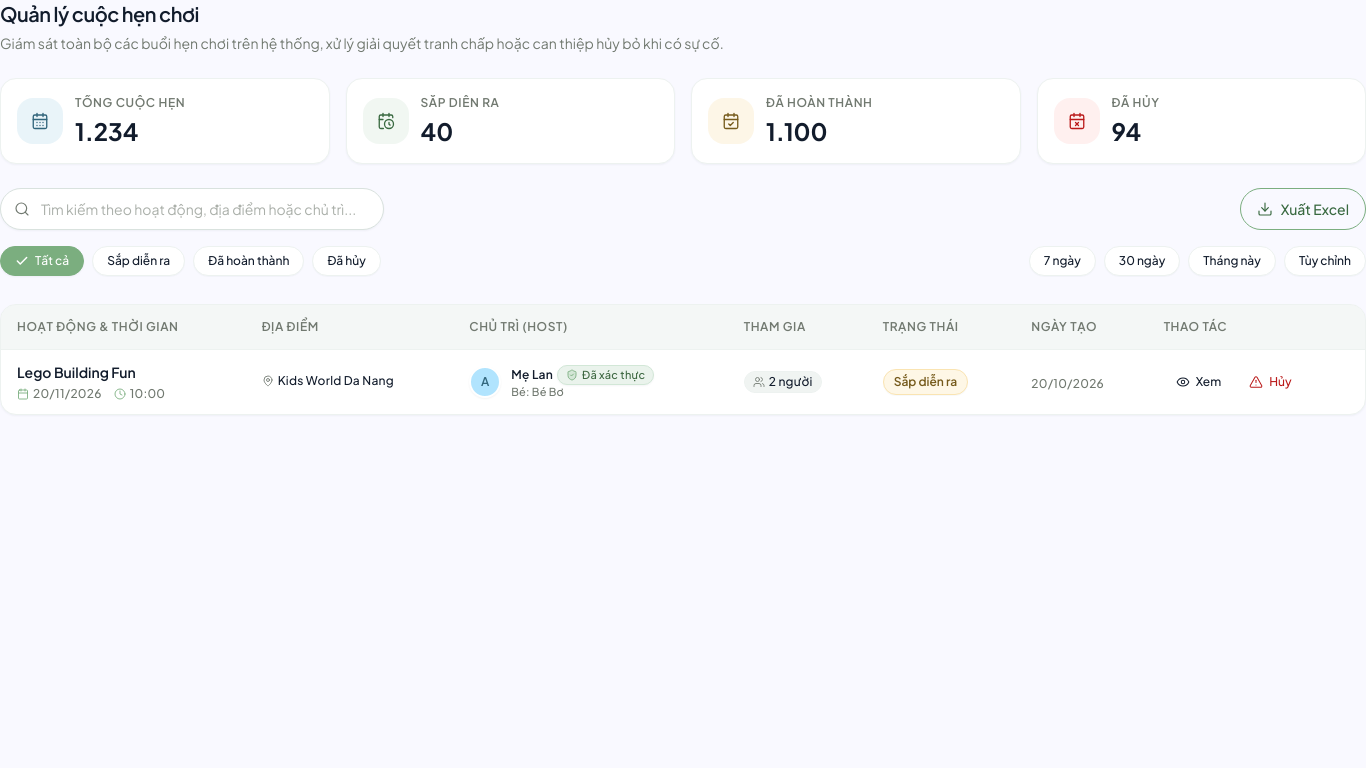
Test: AdminPlaydateManagementPage › renders table with playdates list and opens detail modal on click
The image size is (1366, 768).
Check: the heading "Quản lý cuộc hẹn chơi" is shown, box [0,1,199,26]
Check: the text "Lego Building Fun" is shown, box [17,363,136,381]
# Click on detail button
Click the button "Xem": (1198, 382) [1164,368,1233,396]
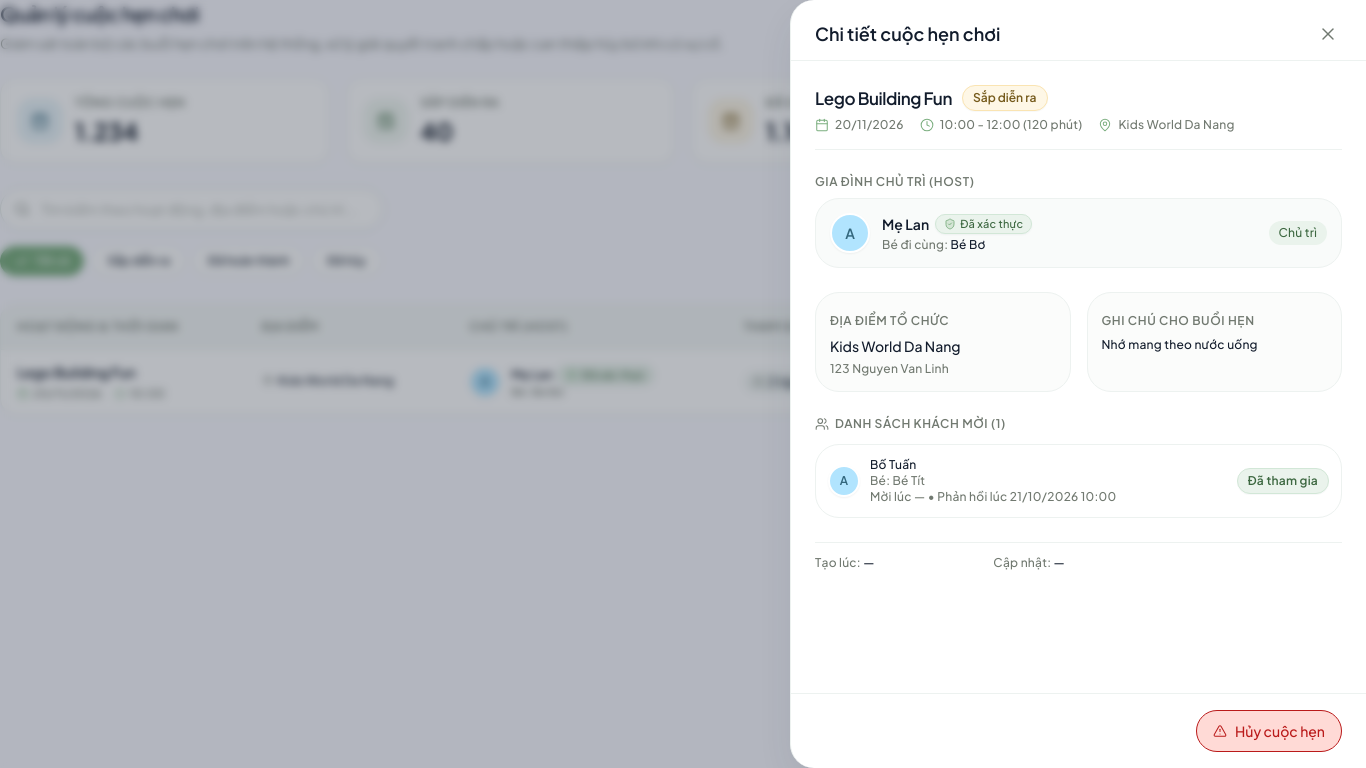
Check: the heading "Chi tiết cuộc hẹn chơi" is shown, box [815,20,1000,48]
Check: the heading "Gia đình chủ trì (Host)" is shown, box [815,174,974,189]
Check: the heading "Danh sách khách mời (1)" is shown, box [815,416,1006,431]
